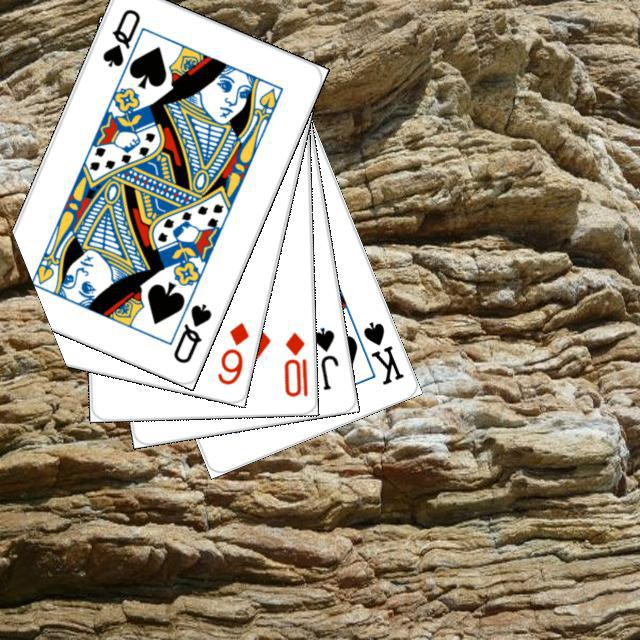10d: (279, 327, 309, 399)
6d: (212, 317, 251, 387)
Js: (308, 322, 340, 392)
Ks: (358, 316, 406, 387)
Qs: (168, 299, 214, 365), (97, 3, 142, 69)
